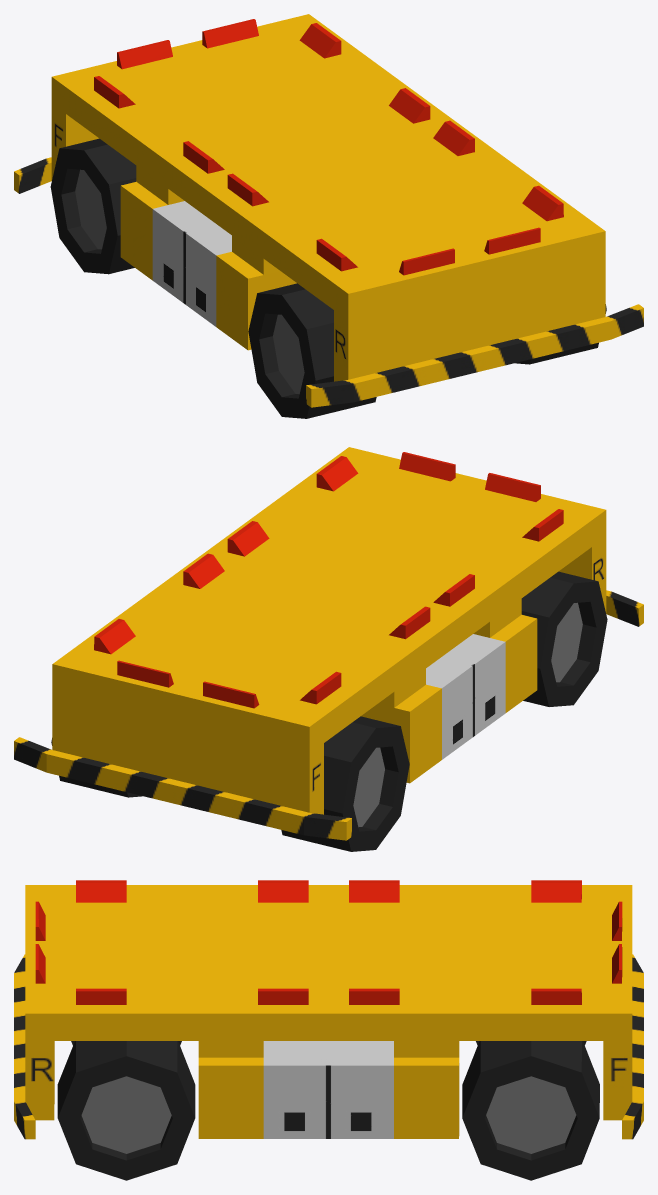
File: agv.glb
The picture shows the model from 3 angles, top to bottom: view 1: azimuth 30°, elevation 25°; view 2: azimuth 150°, elevation 25°; view 3: azimuth 270°, elevation 25°; orthographic projection. The views are drawn at different scales.
Parts seen in each view (by area): view 1: mesh3ds in; view 2: mesh3ds in; view 3: mesh3ds in.
Part boxes in pixels (<box>): mesh3ds in: <box>14,14,643,418</box>; mesh3ds in: <box>14,447,643,851</box>; mesh3ds in: <box>14,880,643,1180</box>.
Size of the model in its own units: 4.71 by 2.28 by 7.55.
1 material, 1 textured.
